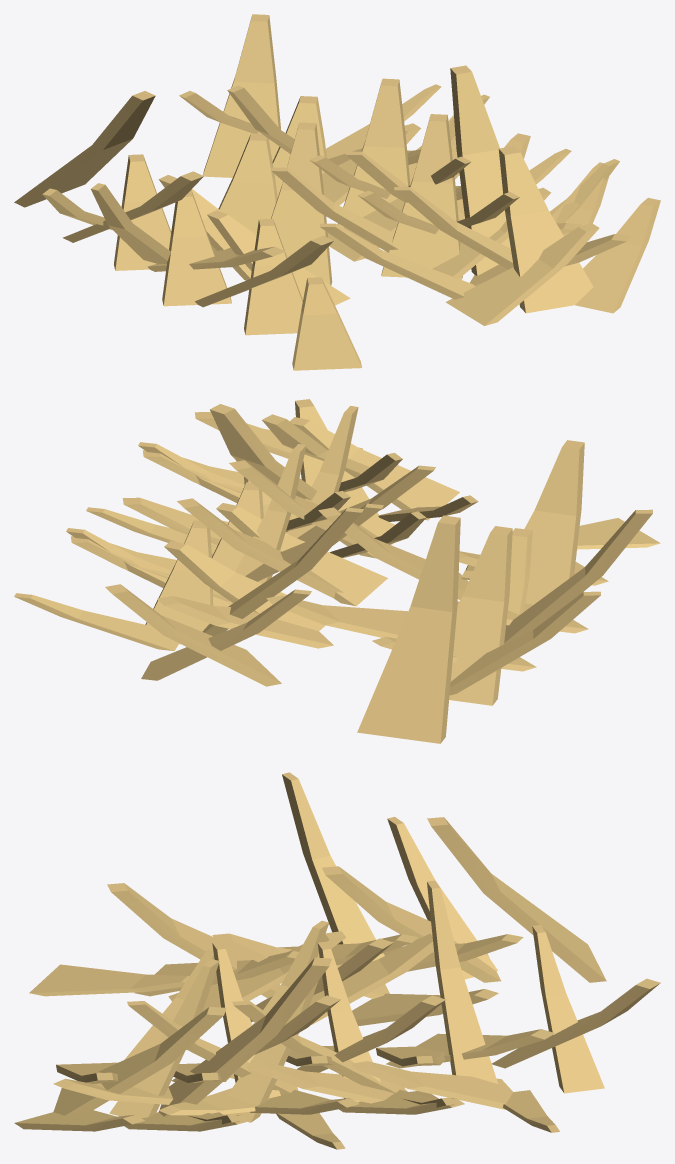
File: grass05.fbx
3 renders of one model, top to bottom at view 1: azimuth 30°, elevation 25°; view 2: azimuth 150°, elevation 25°; view 3: azimuth 270°, elevation 25°, orthographic. The views are drawn at different scales.
Visible parts, largest first — view 1: Plane.157; view 2: Plane.157; view 3: Plane.157.
Part boxes in pixels (box(x1,y1,x2,y2)): Plane.157: box(14, 14, 660, 370); Plane.157: box(14, 399, 660, 743); Plane.157: box(14, 772, 660, 1149).
Size of the model in its own units: 0.1861 by 0.0504 by 0.1902.
